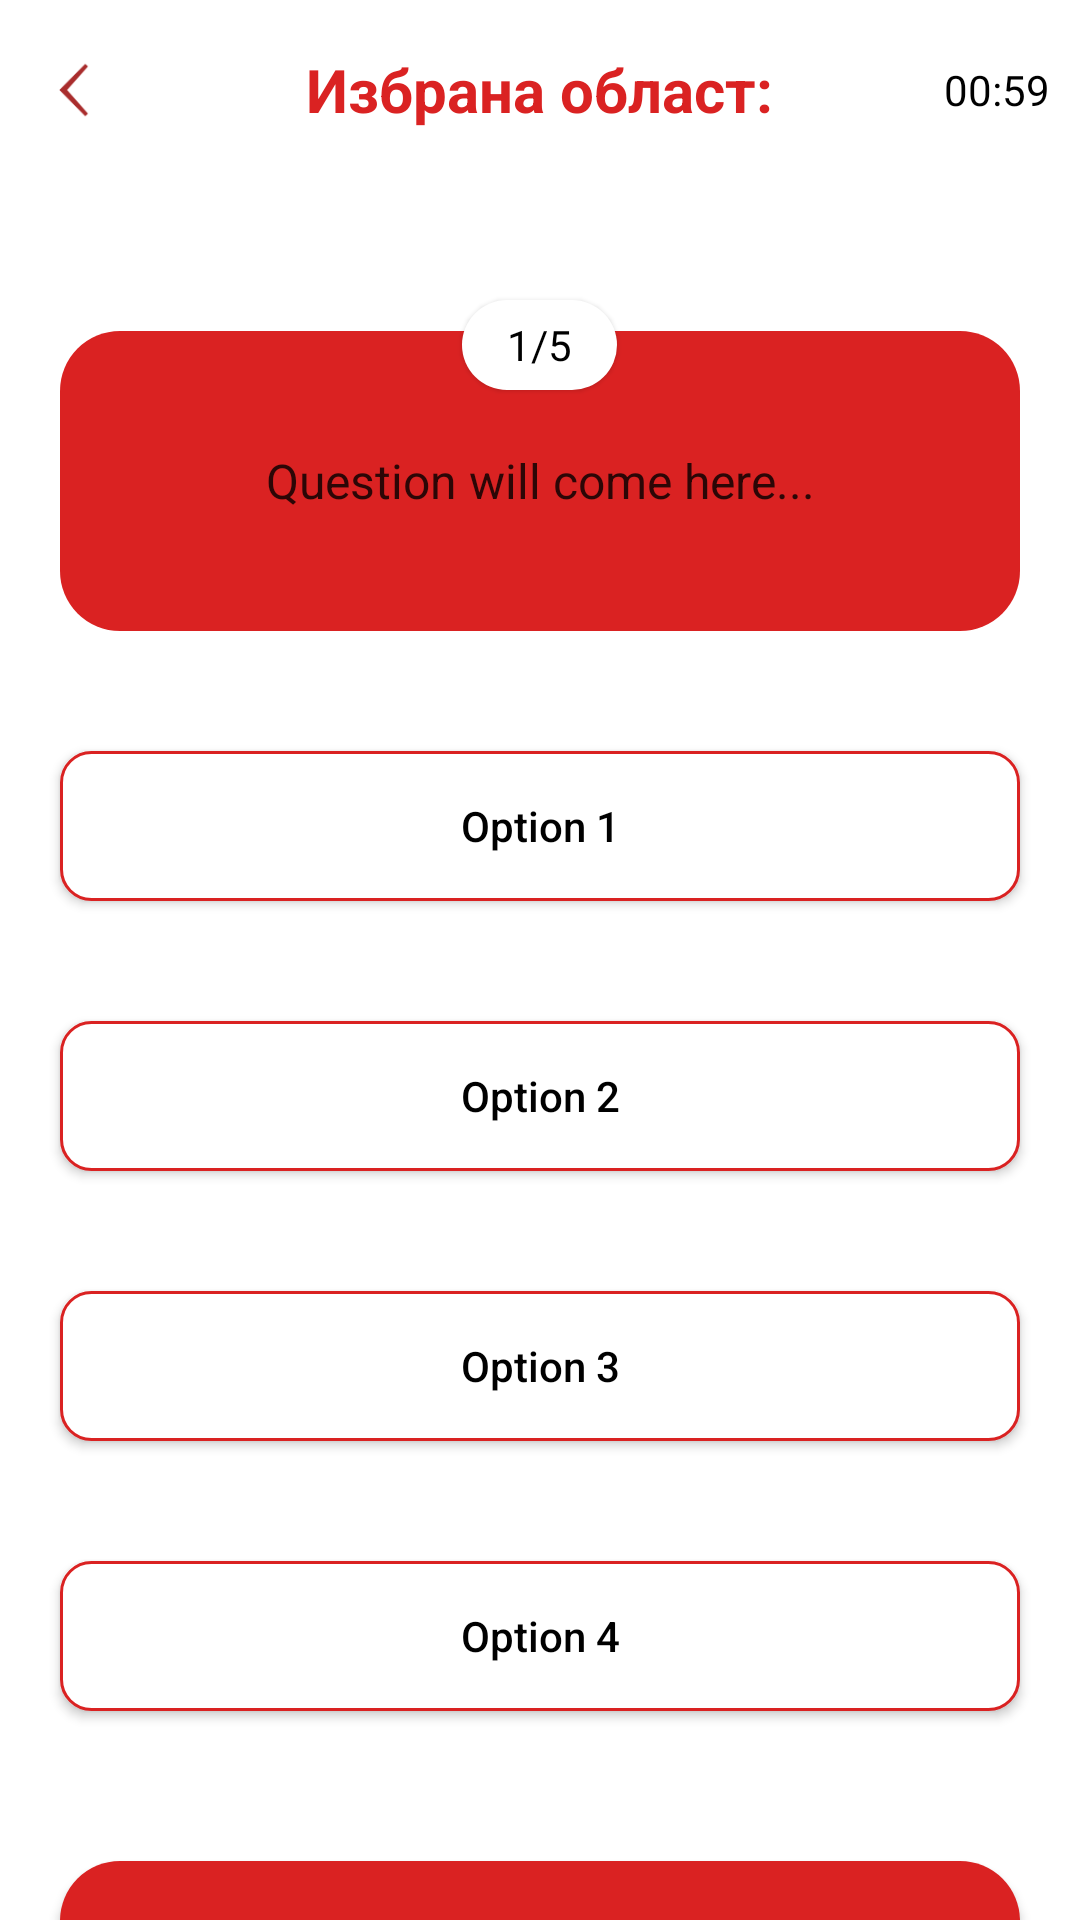

Screen size 1080px x 1920px. Icon name, then its box in pixels as (x1, y1, x2, y2):
back: (59, 64, 88, 116)
